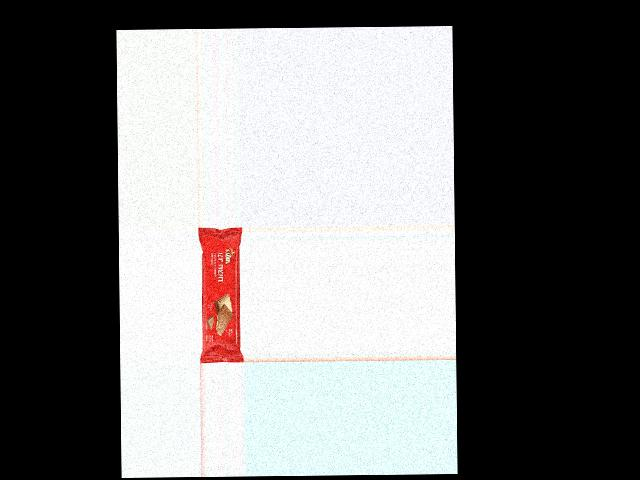chocolate: (197, 230, 243, 361)
